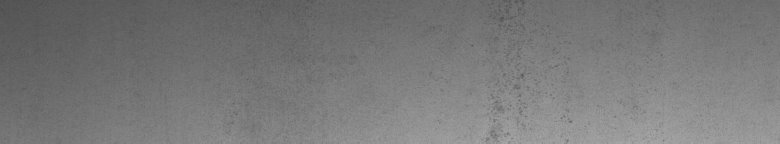ib: (484, 4, 573, 136)
